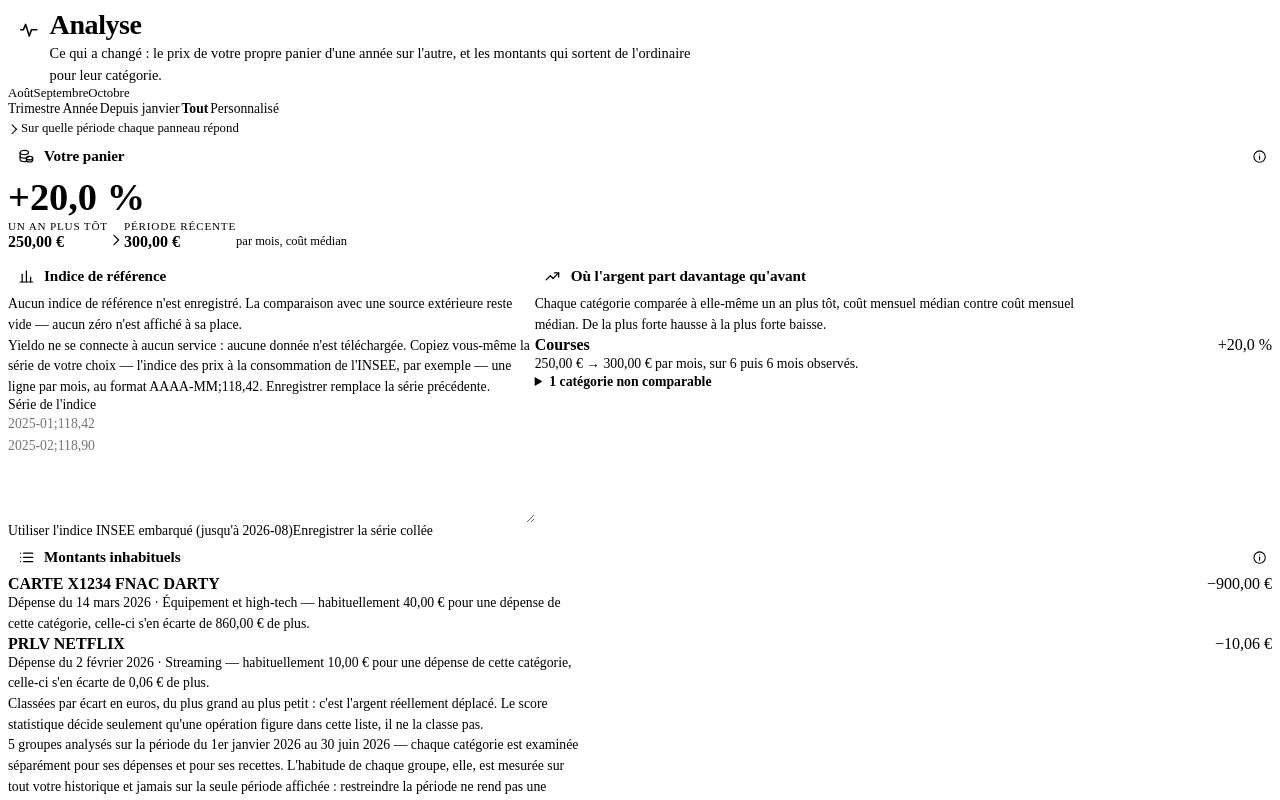
Scenario: AnalysisPage — anomalies › explains what an anomaly is, for anyone who asks
The width and height of the screenshot is (1280, 800).
Step 1. Click the button named "Ce qu'est une anomalie ici" → (1260, 558), box [1248, 546, 1272, 570]
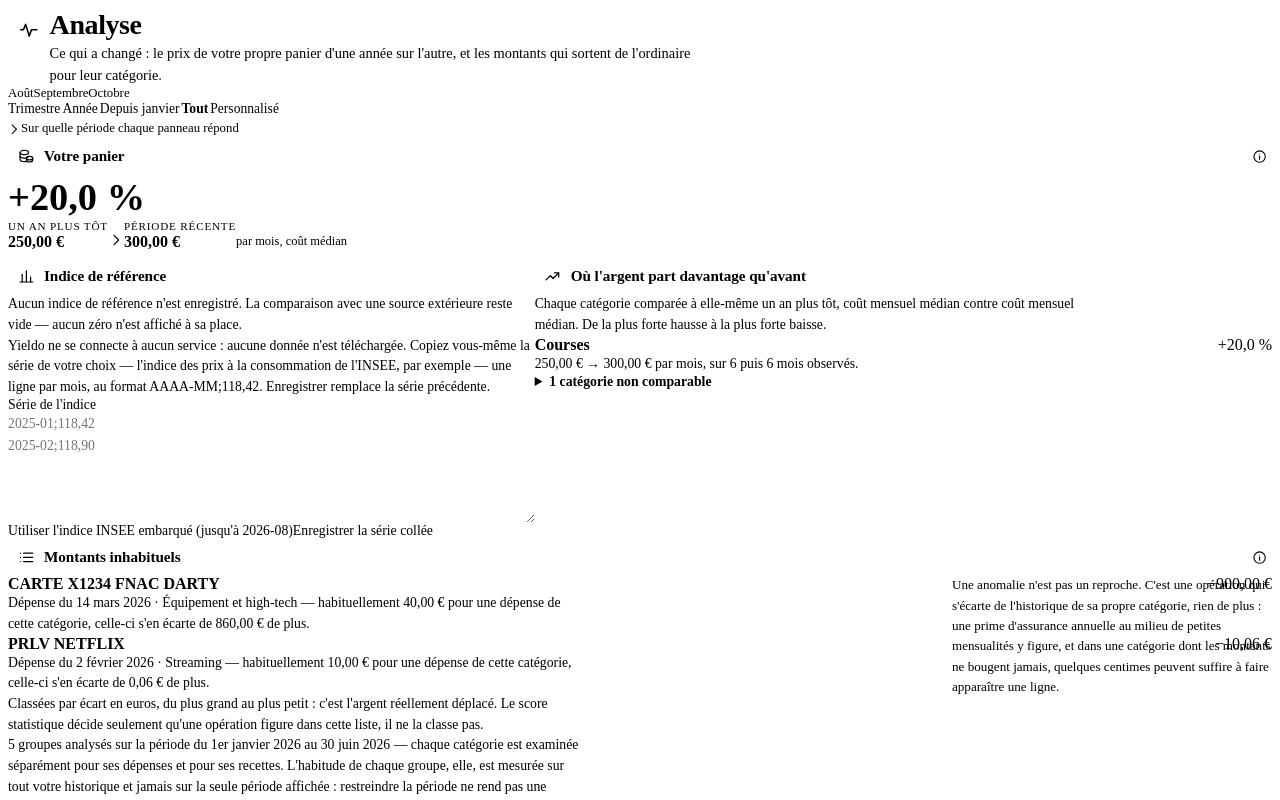
Expected: the tooltip shows "n'est pas un reproche", [952, 578, 1271, 694]
Expected: the tooltip shows "prime d'assurance annuelle", [952, 578, 1271, 694]
